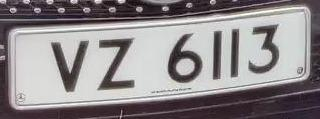3: (245, 19, 286, 80)
6: (161, 29, 209, 92)
V: (43, 34, 95, 97)
Z: (92, 31, 144, 93)
